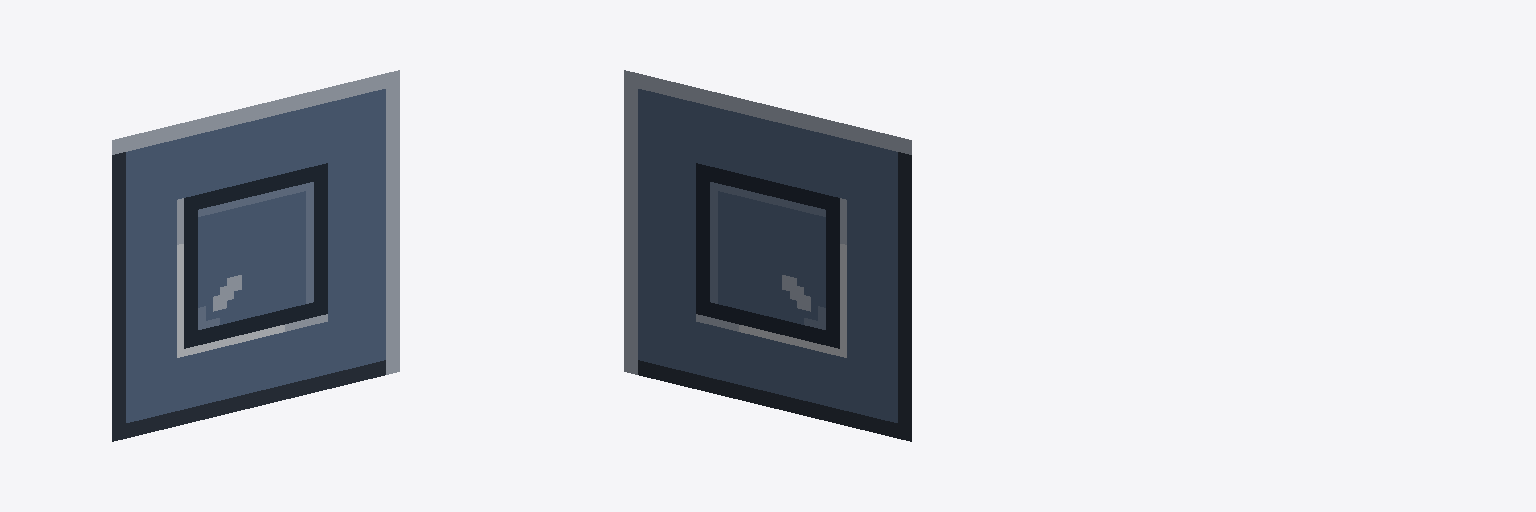
3 renders of one model, left to right at view 1: azimuth 30°, elevation 25°; view 2: azimuth 150°, elevation 25°; view 3: azimuth 270°, elevation 25°, orthographic.
Visible parts, largest first — view 1: 平面; view 2: 平面; view 3: none.
Part boxes in pixels (bbox=[...]): 平面: bbox=[112, 70, 399, 441]; 平面: bbox=[624, 70, 911, 441].
Size of the model in its own units: 2 by 2 by 0.
Materials: 1 (1 with a texture image).